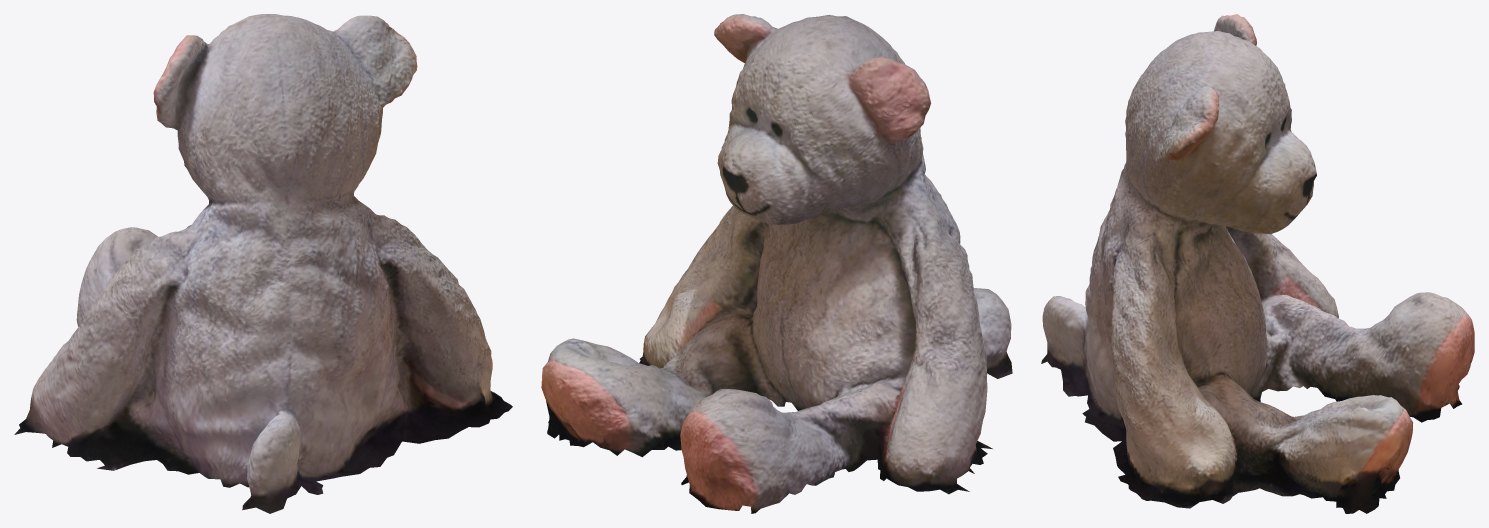
The model's file is 3d_scan_teddy_bear.glb.
3 views of the same model, side by side, from view 1: azimuth 30°, elevation 25°; view 2: azimuth 150°, elevation 25°; view 3: azimuth 270°, elevation 25° (orthographic). The views are drawn at different scales.
Parts seen in each view (by area): view 1: Object_4; view 2: Object_4; view 3: Object_4.
Boxes of the visible parts, x1,y1,x2,y2 form: Object_4: [14, 14, 512, 513]; Object_4: [541, 14, 1012, 513]; Object_4: [1041, 14, 1474, 513].
Size of the model in its own units: 1.17 by 1.12 by 1.15.
Materials: 1 (1 with a texture image).
